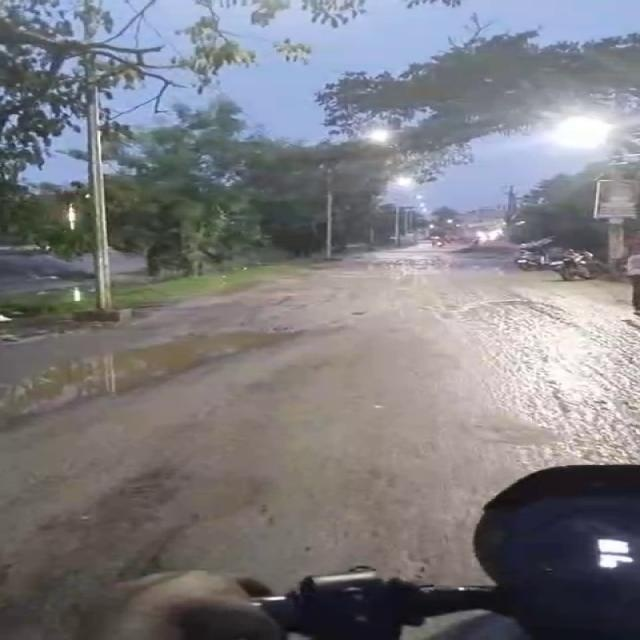pothole: (10, 326, 289, 410), (348, 306, 366, 318)
